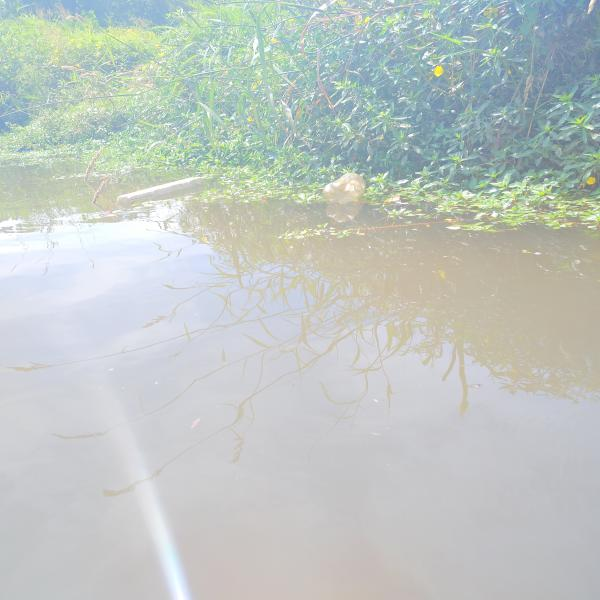bottles: (324, 170, 365, 204)
others: (114, 174, 204, 206)
